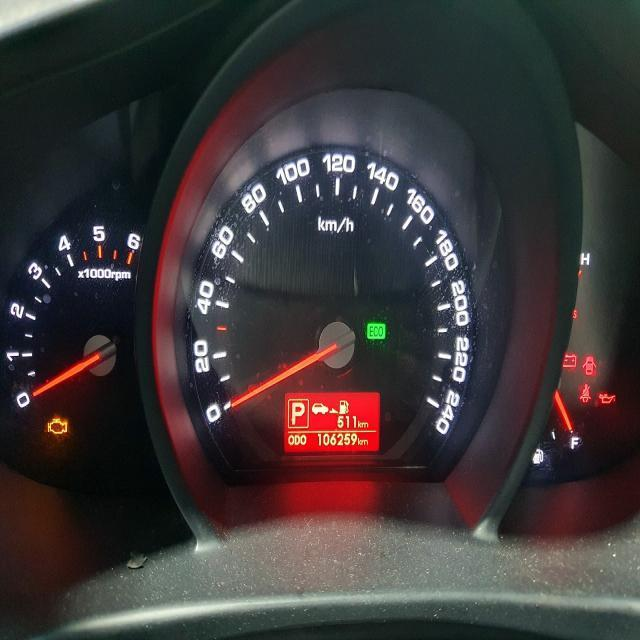Doors: (582, 354, 596, 376)
